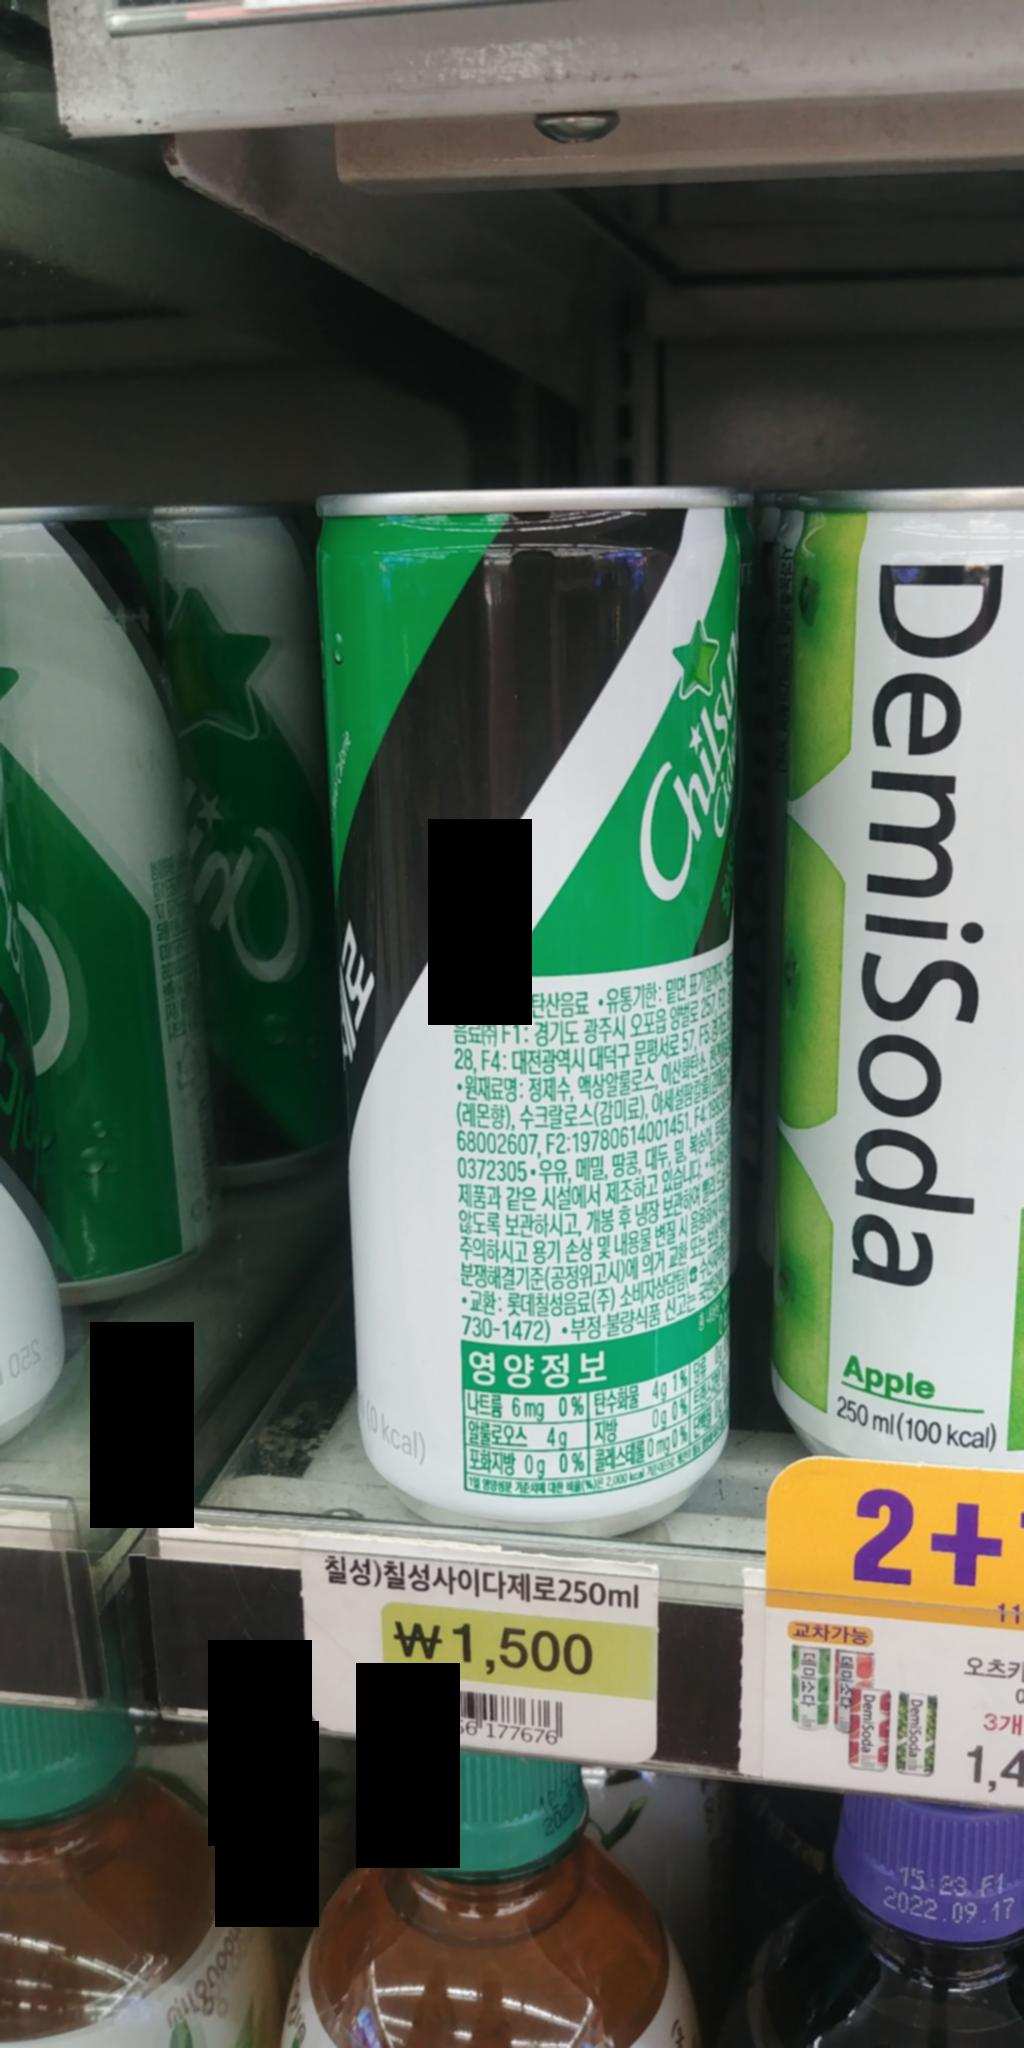chilsungcider_zero: (313, 477, 742, 1546)
